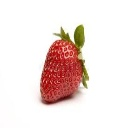strawberry: (39, 22, 90, 104)
